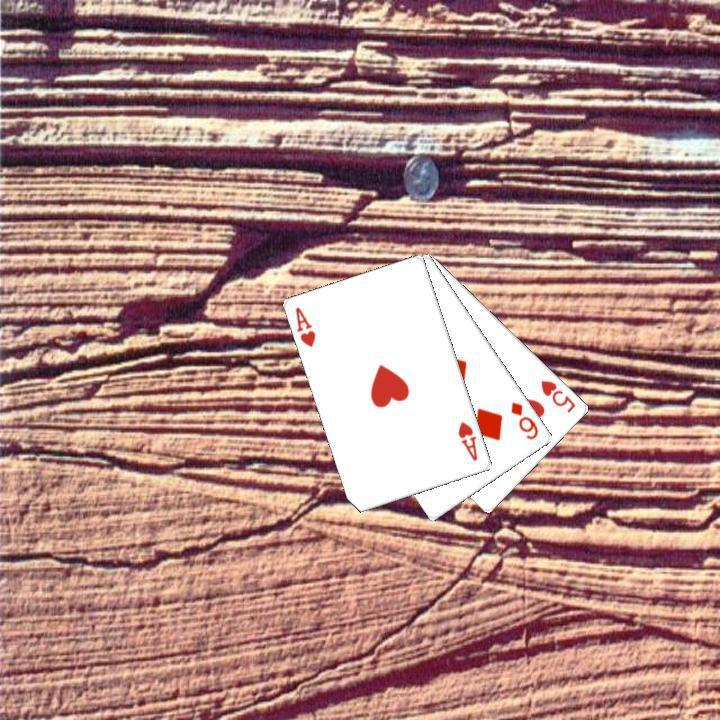5: (537, 376, 578, 415)
6: (506, 398, 541, 442)
A: (291, 303, 318, 349), (454, 417, 480, 463)
